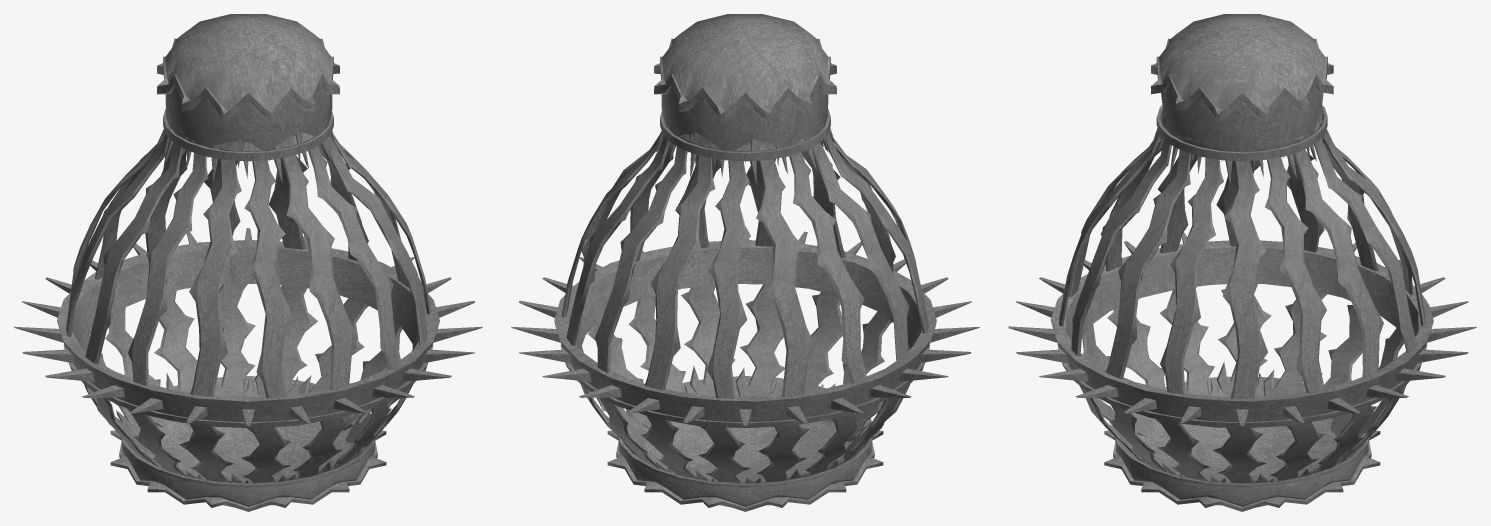
File: SM_CagedBrazier_01.fbx
The picture shows the model from 3 angles, left to right: view 1: azimuth 30°, elevation 25°; view 2: azimuth 150°, elevation 25°; view 3: azimuth 270°, elevation 25°; orthographic projection.
Parts seen in each view (by area): view 1: SM_CagedBrazier_01_LOD0; view 2: SM_CagedBrazier_01_LOD0; view 3: SM_CagedBrazier_01_LOD0.
Boxes of the visible parts, left/top/right/bottom form: SM_CagedBrazier_01_LOD0: left=14, top=14, right=482, bottom=511; SM_CagedBrazier_01_LOD0: left=511, top=14, right=979, bottom=511; SM_CagedBrazier_01_LOD0: left=1008, top=14, right=1476, bottom=511.
Size of the model in its own units: 101 by 101 by 107.
1 material, 1 textured.
